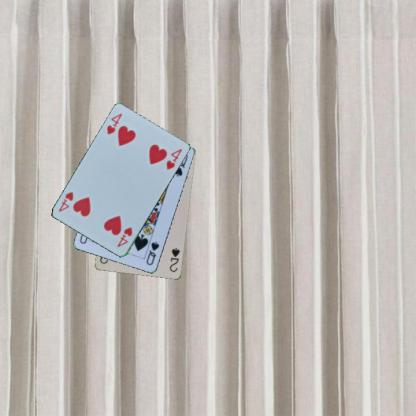2s: (167, 245, 181, 273)
4h: (104, 111, 123, 136), (115, 225, 134, 248)
Qs: (144, 239, 160, 266)
